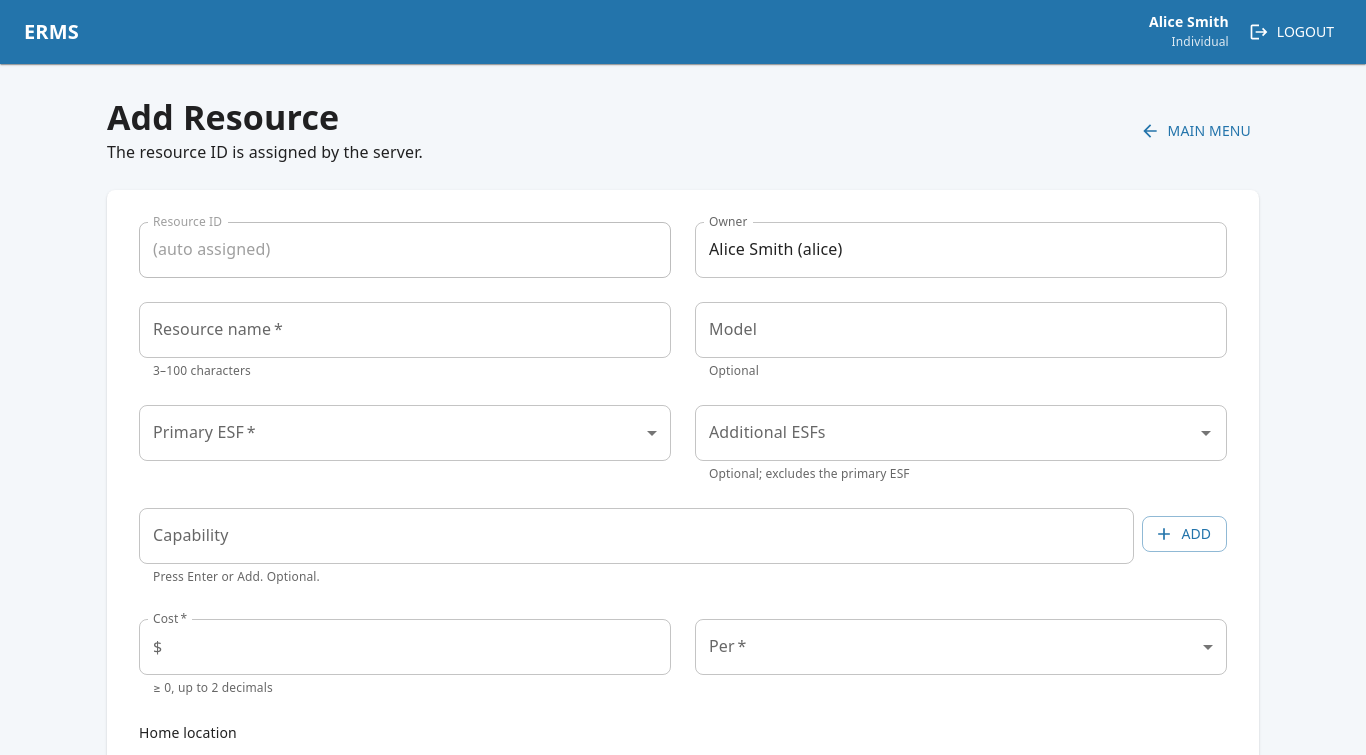
AddResourcePage › adds and removes capability chips and rejects duplicates
The image size is (1366, 755).
Expected: the field labelled "Owner" is shown, [695, 222, 1227, 278]
Type "Night ops" into the field labelled "Capability". click: {"x": 636, "y": 536}
box: [139, 508, 1134, 564]
Then press Enter
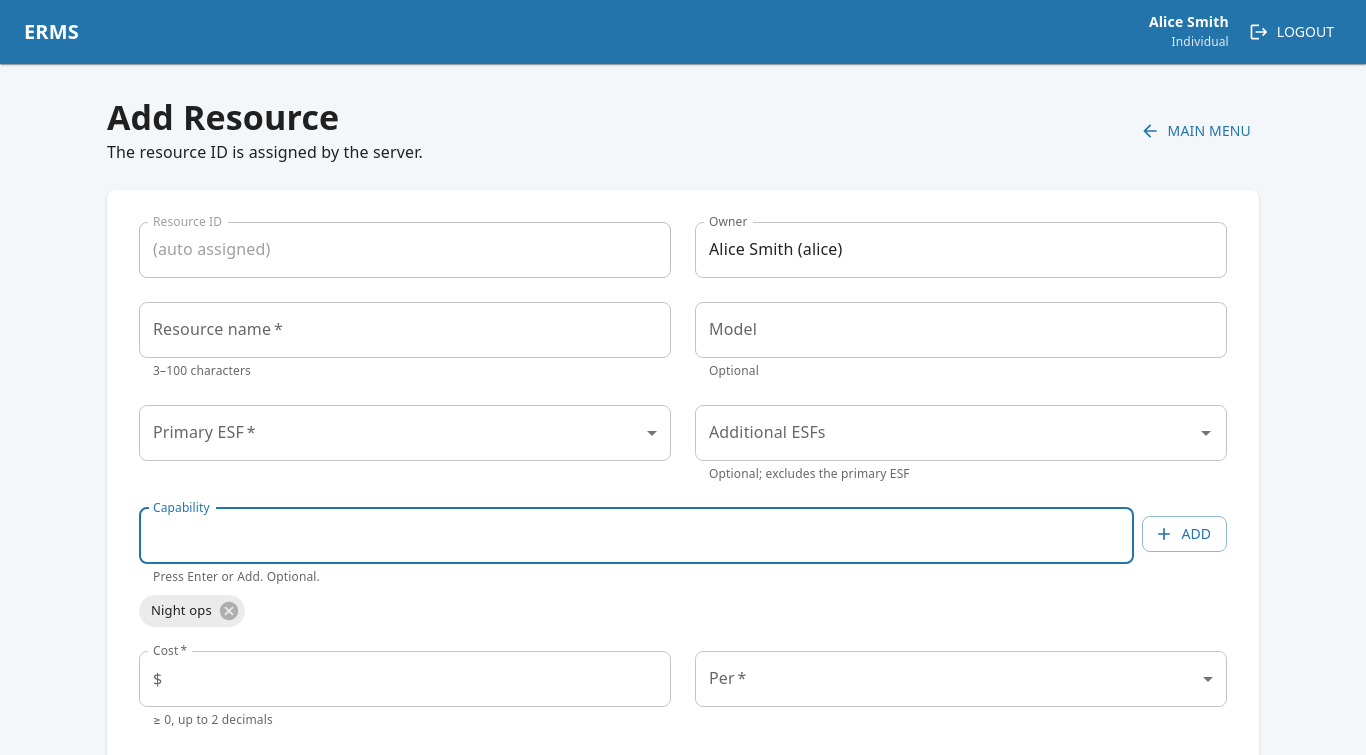
Type "night OPS" into the field labelled "Capability". click: {"x": 636, "y": 536}
box: [139, 508, 1134, 564]
Then press Enter
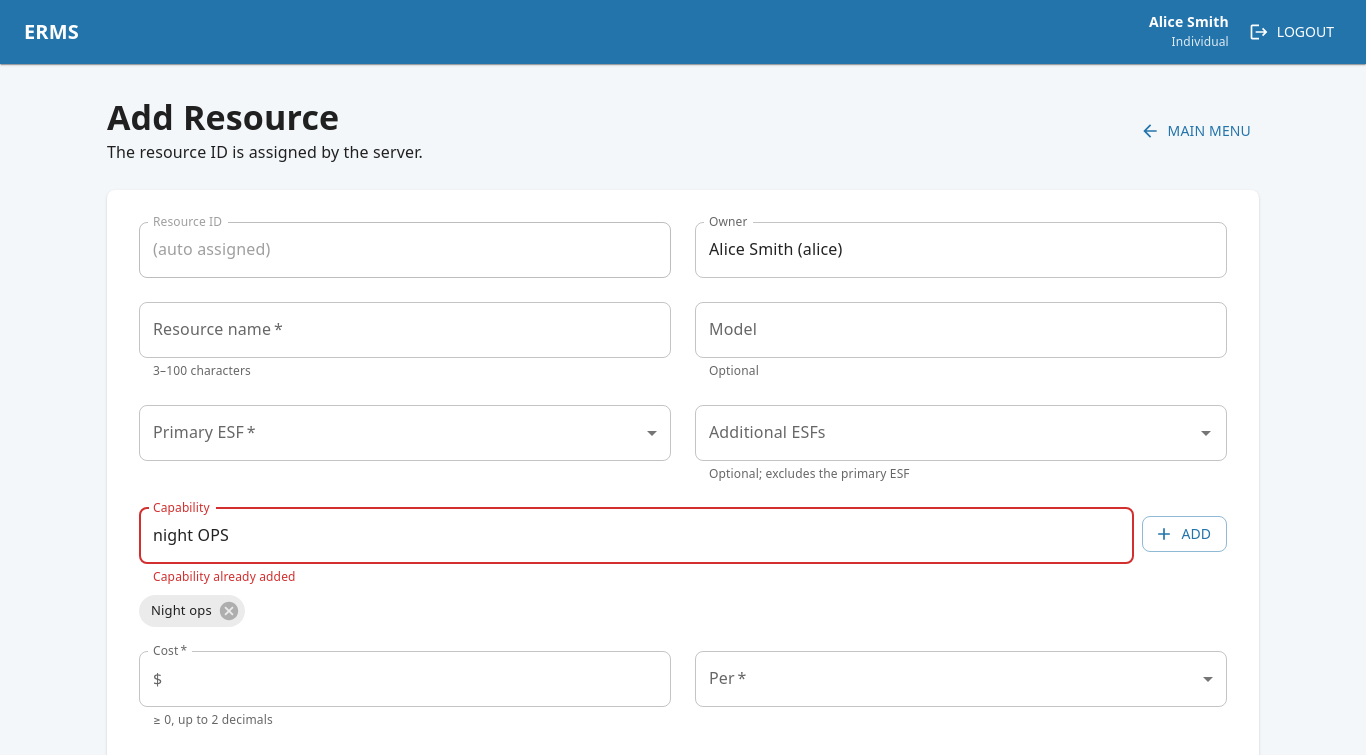
Expected: the number of list items is 1, [139, 595, 245, 627]
Expected: the text "Capability already added" is shown, [153, 568, 296, 585]
Click the picture named "Remove Night ops". click: {"x": 229, "y": 611}
box: [218, 600, 240, 622]
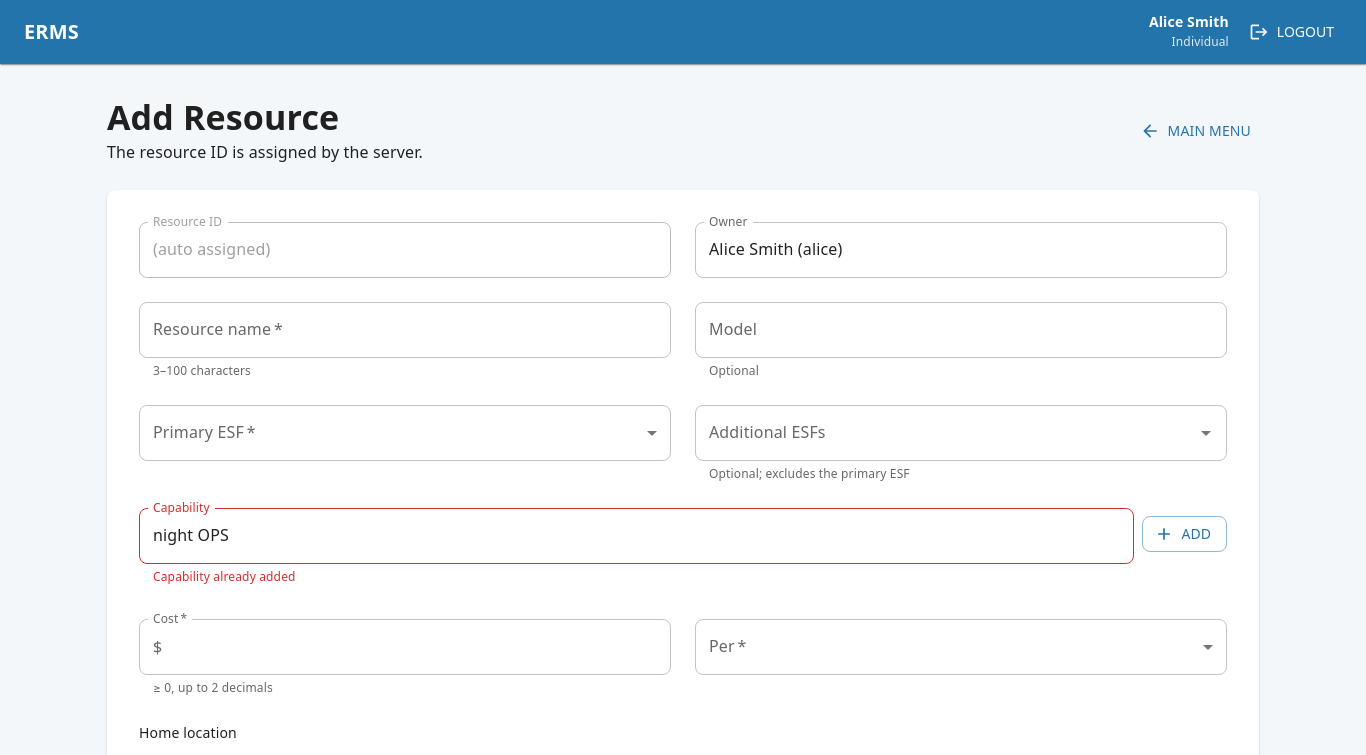
Expected: no list items are shown
Clear the field labelled "Capability". click: {"x": 636, "y": 536}
box: [139, 508, 1134, 564]
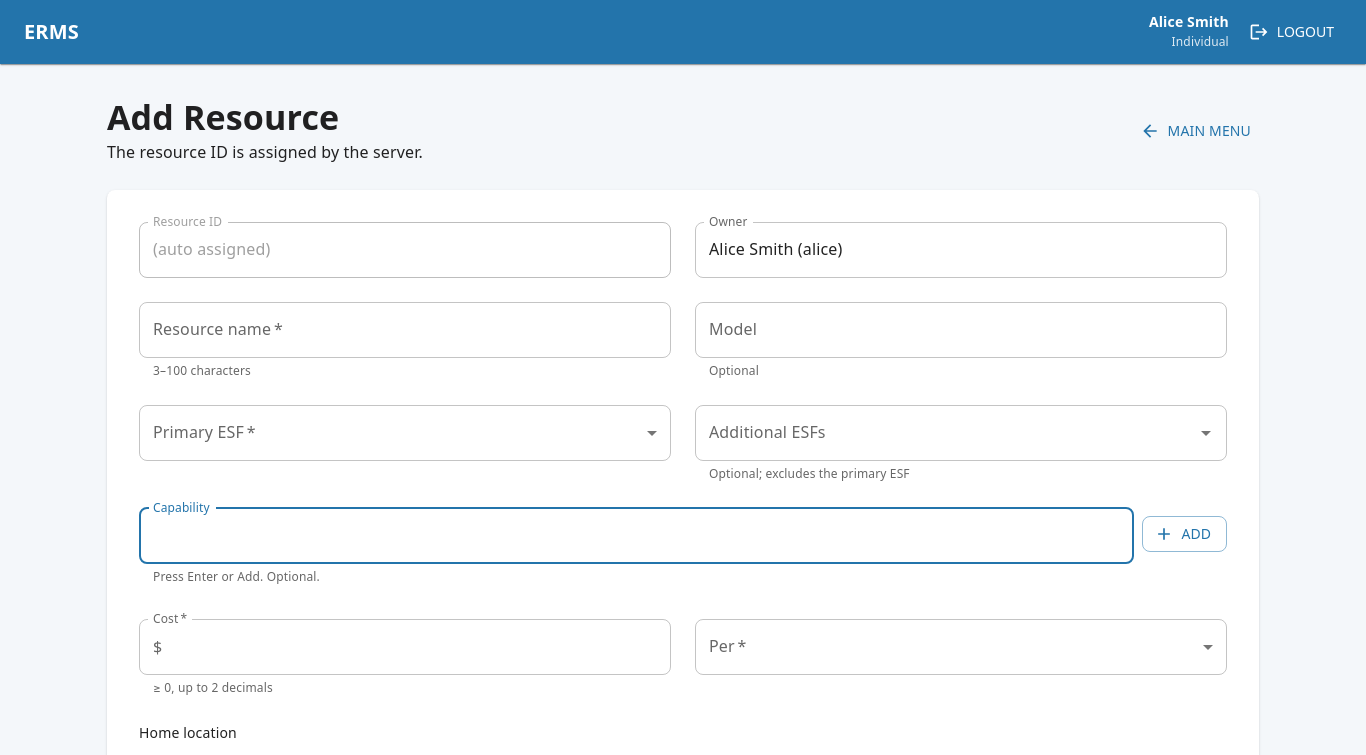
Click the button "Add". click: {"x": 1184, "y": 534}
box: [1142, 516, 1227, 552]
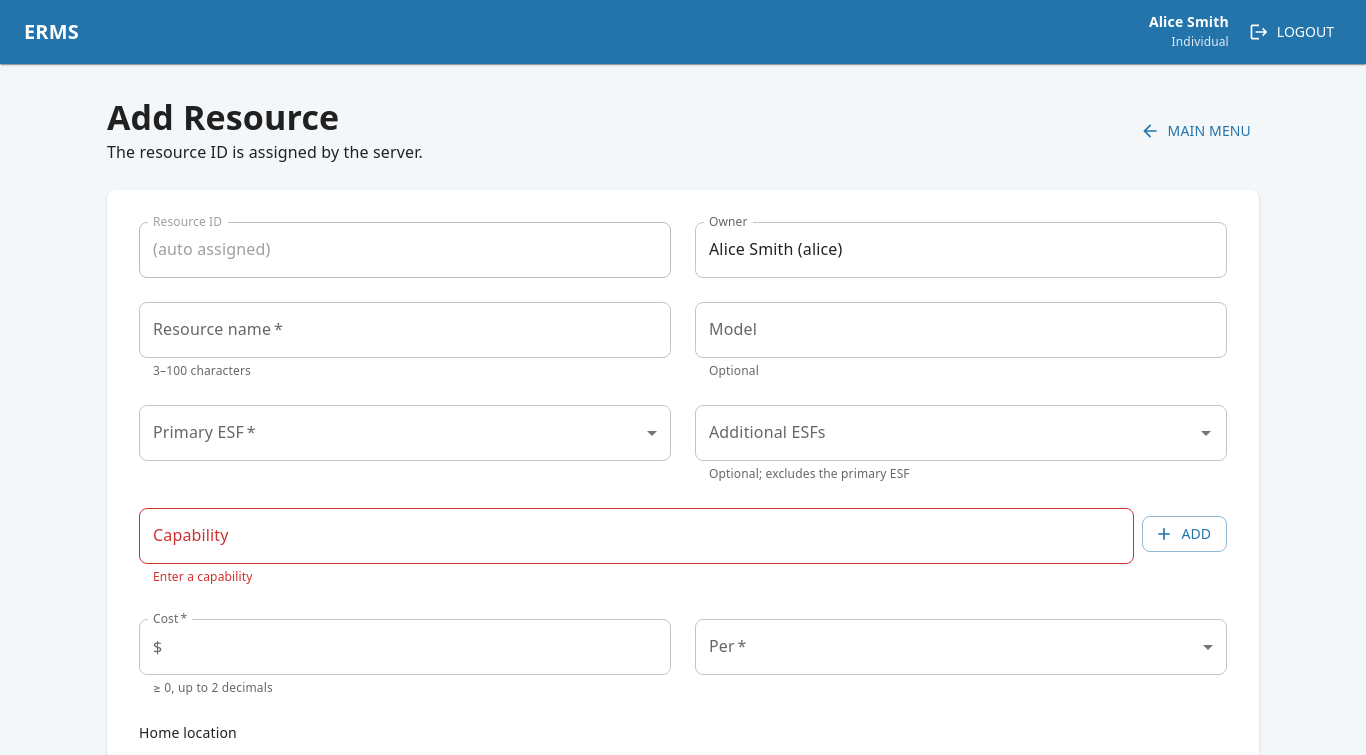
Expected: the text "Enter a capability" is shown, [153, 568, 252, 585]
